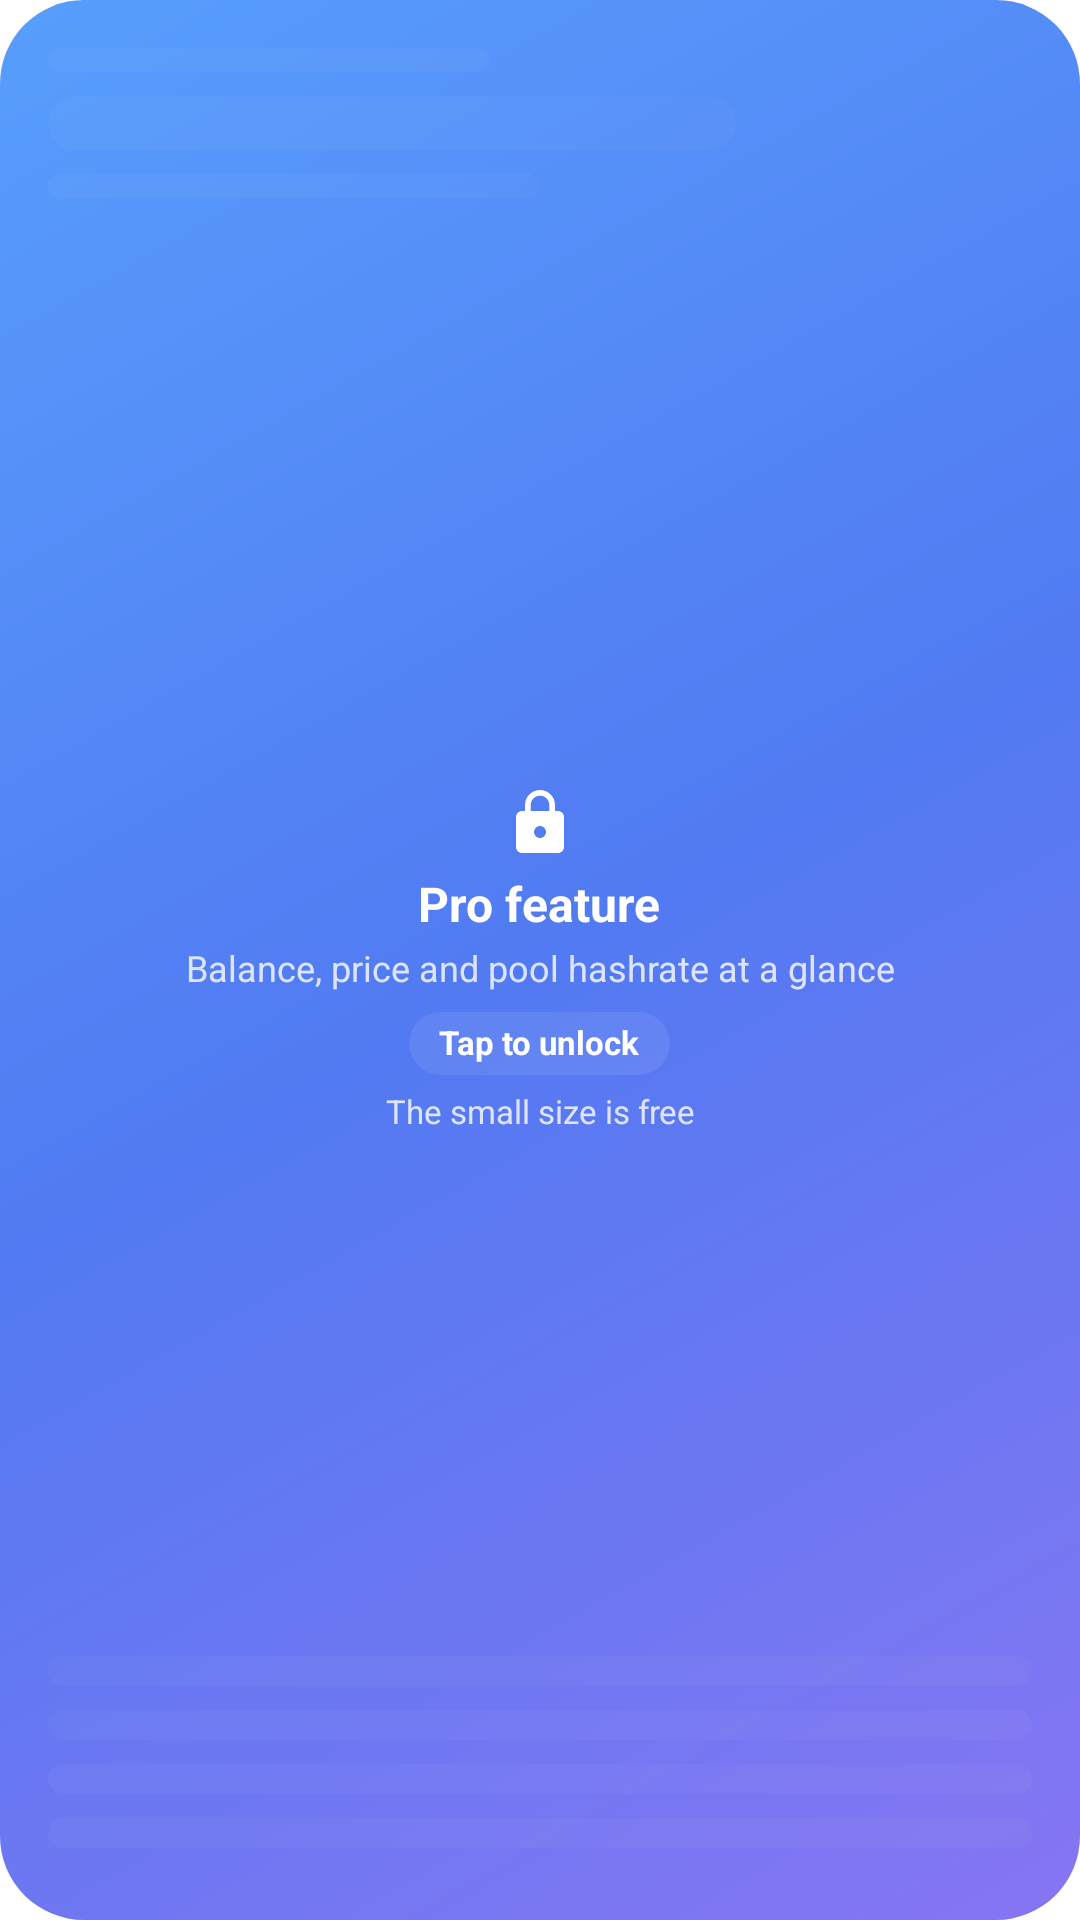

Icon bounding boxes for this 1080w x 1920h phone screenshot, format [x1,y1,x2,y2]:
widget lock: [516,790,564,853]
